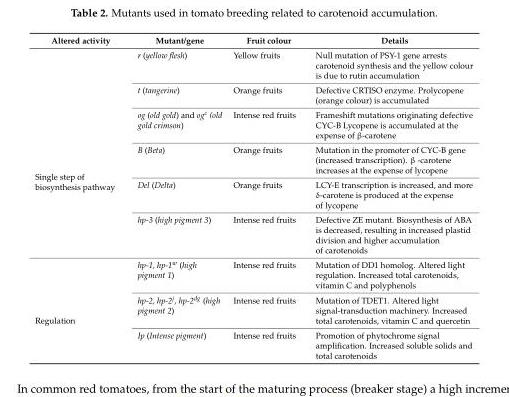table: (34, 34, 472, 360)
table column: (304, 34, 472, 360), (125, 34, 226, 360), (34, 34, 125, 360), (226, 34, 304, 360)
table column header: (34, 34, 472, 47)
table row: (34, 211, 472, 256), (34, 291, 472, 327), (34, 47, 472, 82), (34, 106, 472, 141), (34, 141, 472, 176), (34, 176, 472, 211), (34, 256, 472, 291), (34, 327, 472, 360), (34, 82, 472, 106), (34, 34, 472, 47)
table spanning cell: (34, 47, 125, 256), (34, 256, 125, 360)
